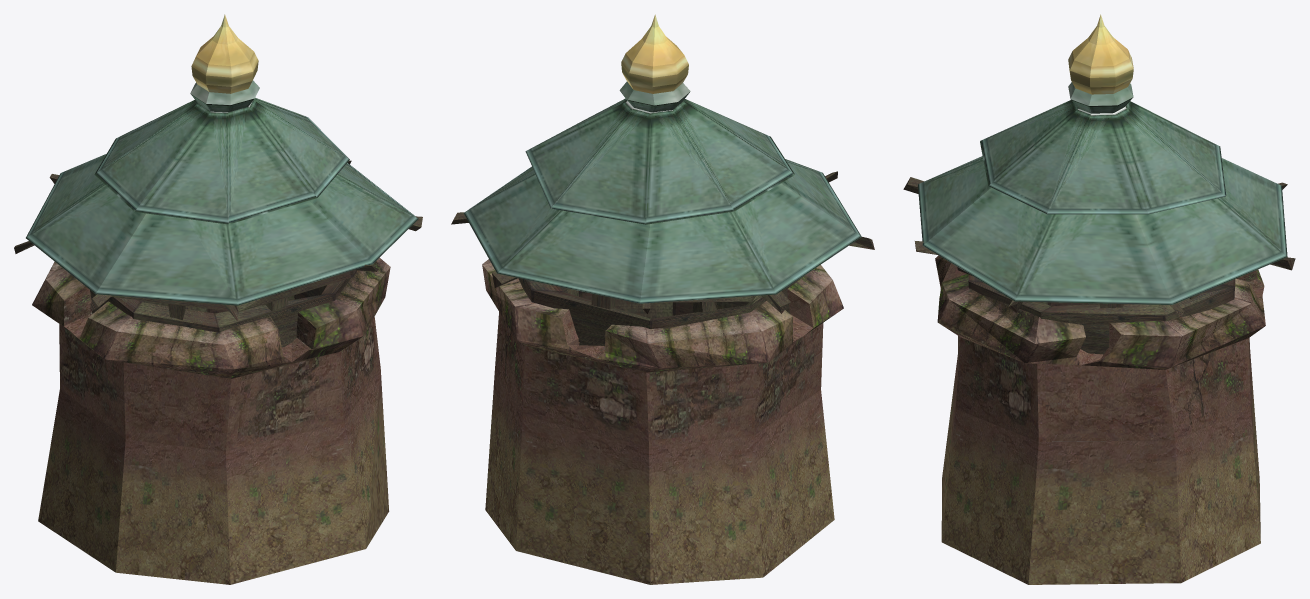
File: C1SMTLH.obj
3 views of the same model, side by side, from view 1: azimuth 30°, elevation 25°; view 2: azimuth 150°, elevation 25°; view 3: azimuth 270°, elevation 25° (orthographic).
Visible parts, largest first — view 1: Node 0; view 2: Node 0; view 3: Node 0.
Part boxes in pixels (x1,y1,x2,y2): Node 0: [14, 14, 422, 584]; Node 0: [451, 14, 874, 584]; Node 0: [903, 14, 1295, 584].
Size of the model in its own units: 14.36 by 20.15 by 14.11.
Materials: 4 (4 with a texture image).
